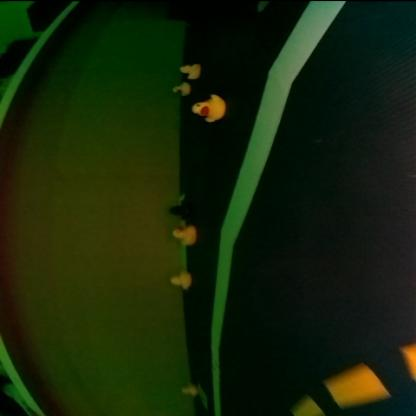Duckie: (190, 94, 224, 122), (172, 227, 196, 245), (180, 65, 198, 79), (170, 275, 187, 289), (172, 83, 190, 95)
